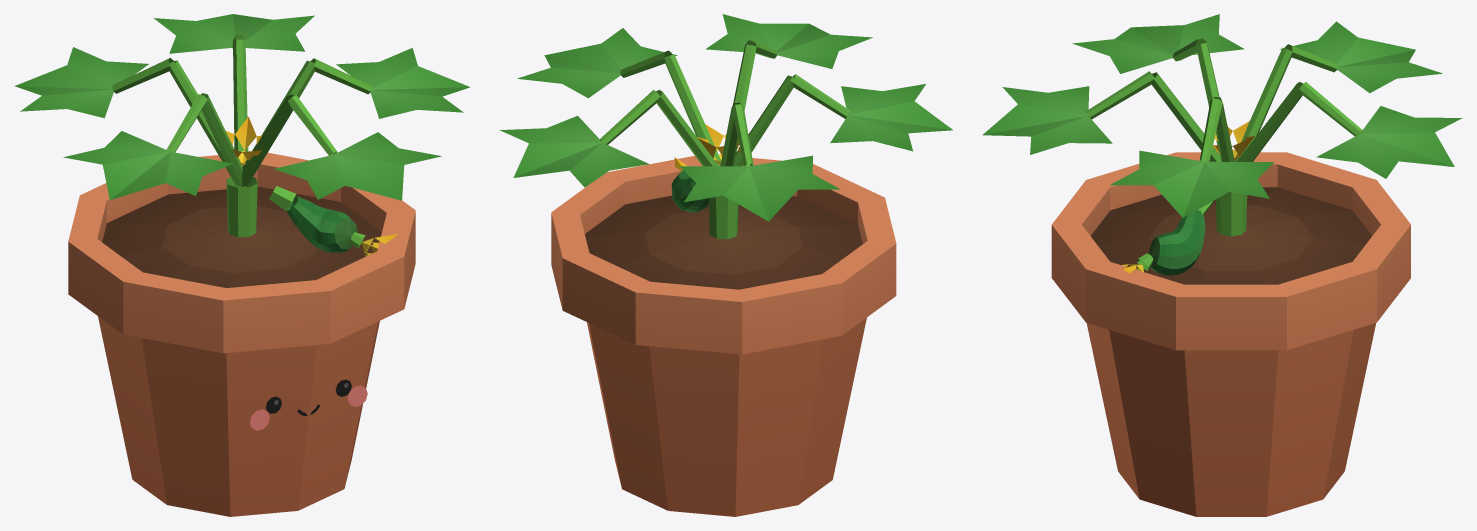
File: cute_zucchini_stage3.glb
3 views of the same model, side by side, from view 1: azimuth 30°, elevation 25°; view 2: azimuth 150°, elevation 25°; view 3: azimuth 270°, elevation 25° (orthographic).
Parts seen in each view (by area): view 1: ZucchiniPlant; view 2: ZucchiniPlant; view 3: ZucchiniPlant.
Part boxes in pixels (x1,y1,x2,y2): ZucchiniPlant: (14, 14, 470, 516); ZucchiniPlant: (499, 14, 952, 516); ZucchiniPlant: (982, 14, 1462, 516).
Bounding box in the file's own units: 0.5015 × 0.4922 × 0.5297.
